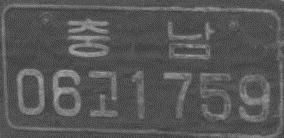0: (16, 67, 46, 115)
1: (124, 70, 155, 119)
5: (198, 71, 232, 122)
6: (51, 68, 81, 117)
7: (162, 71, 193, 119)
9: (238, 74, 271, 124)
고: (86, 69, 119, 118)
충남_D: (67, 17, 214, 61)
